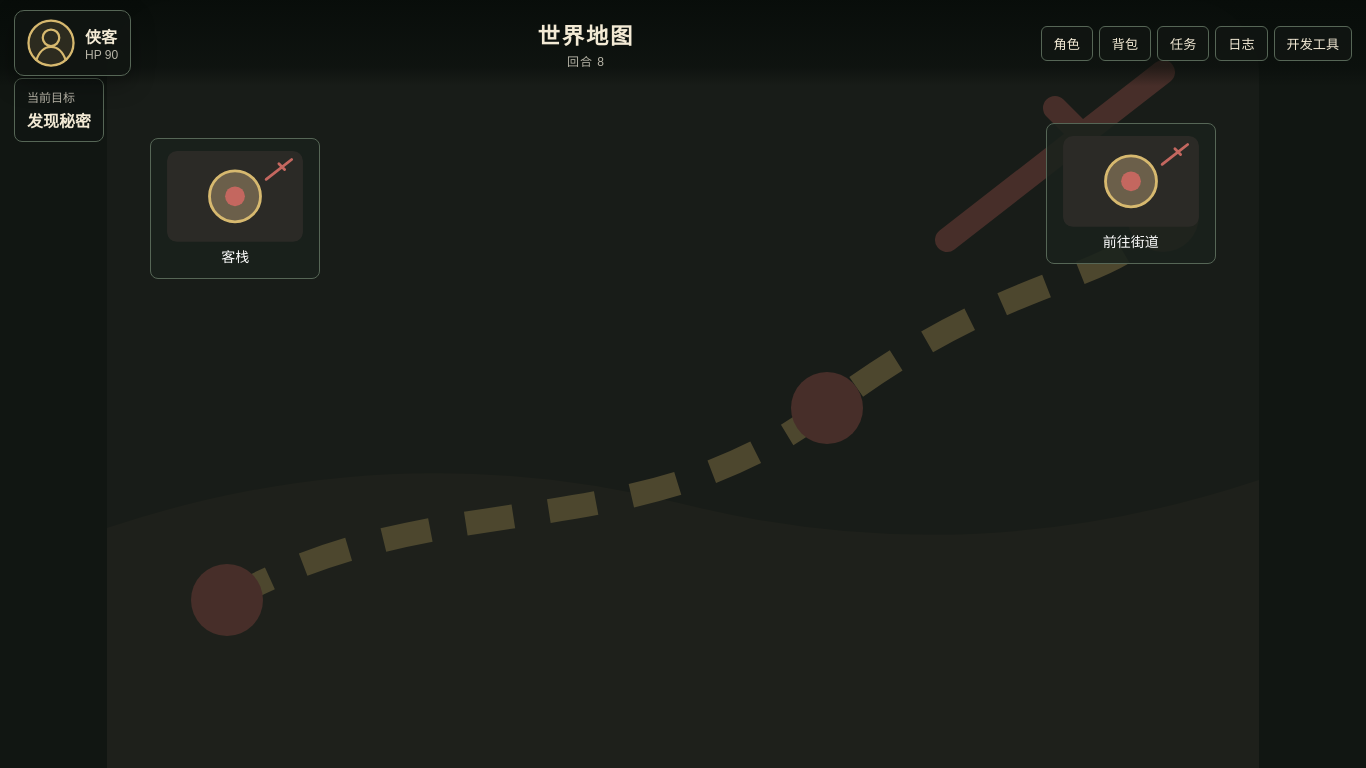
AdventureGameShell canonical opaque choices › provides a close button that collapses the NPC dialogue panel
Step 1. Click the button "客栈" → [235, 209], box [150,138,320,279]
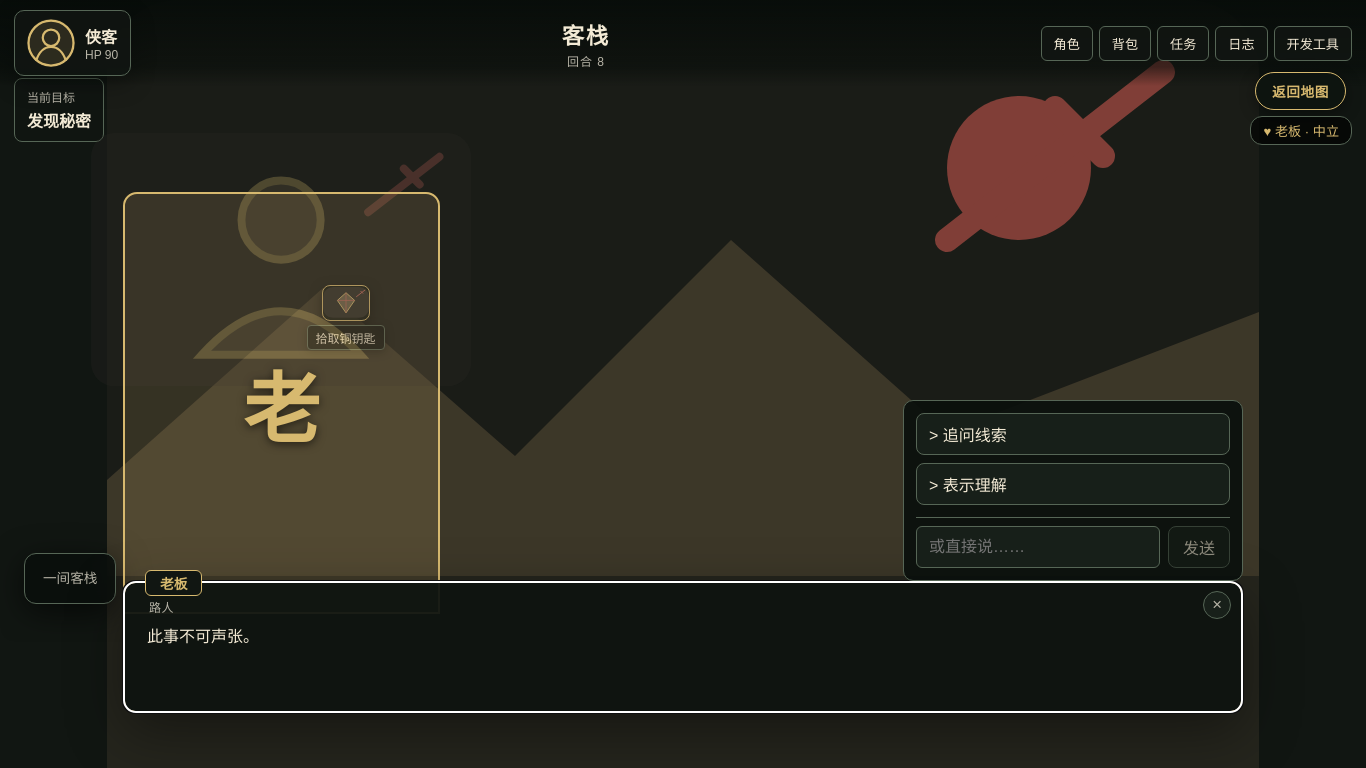
Expected: the dialog named "与老板对话" is shown
Step 2. Click the button named "关闭对话" → [1217, 605], box [1203,591,1231,619]
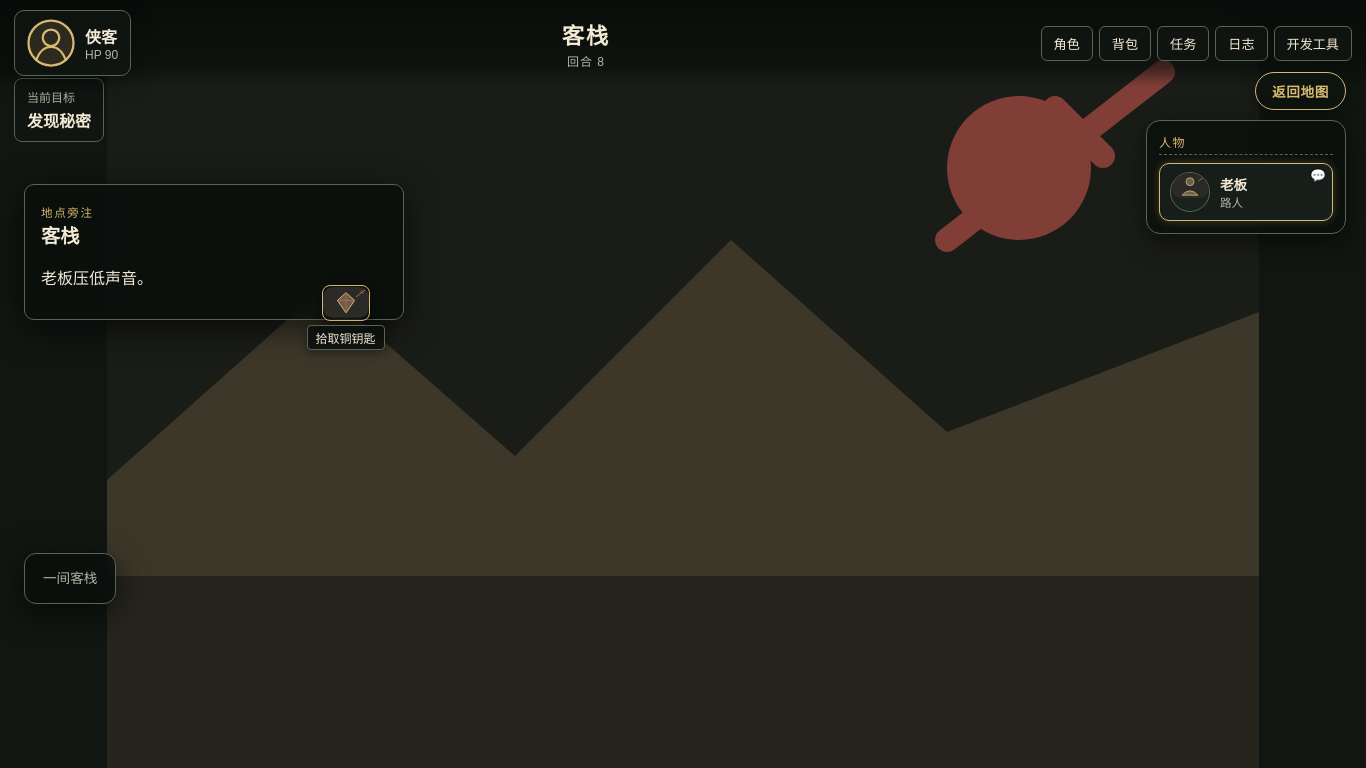
Expected: the dialog "与老板对话" is gone
